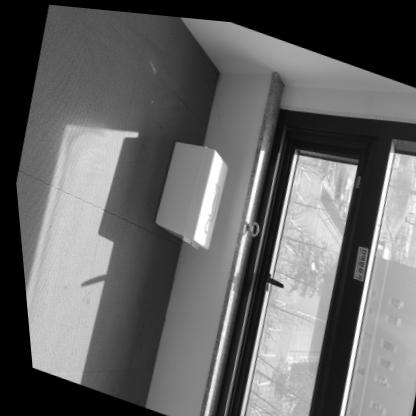DDL: (141, 128, 235, 252)
